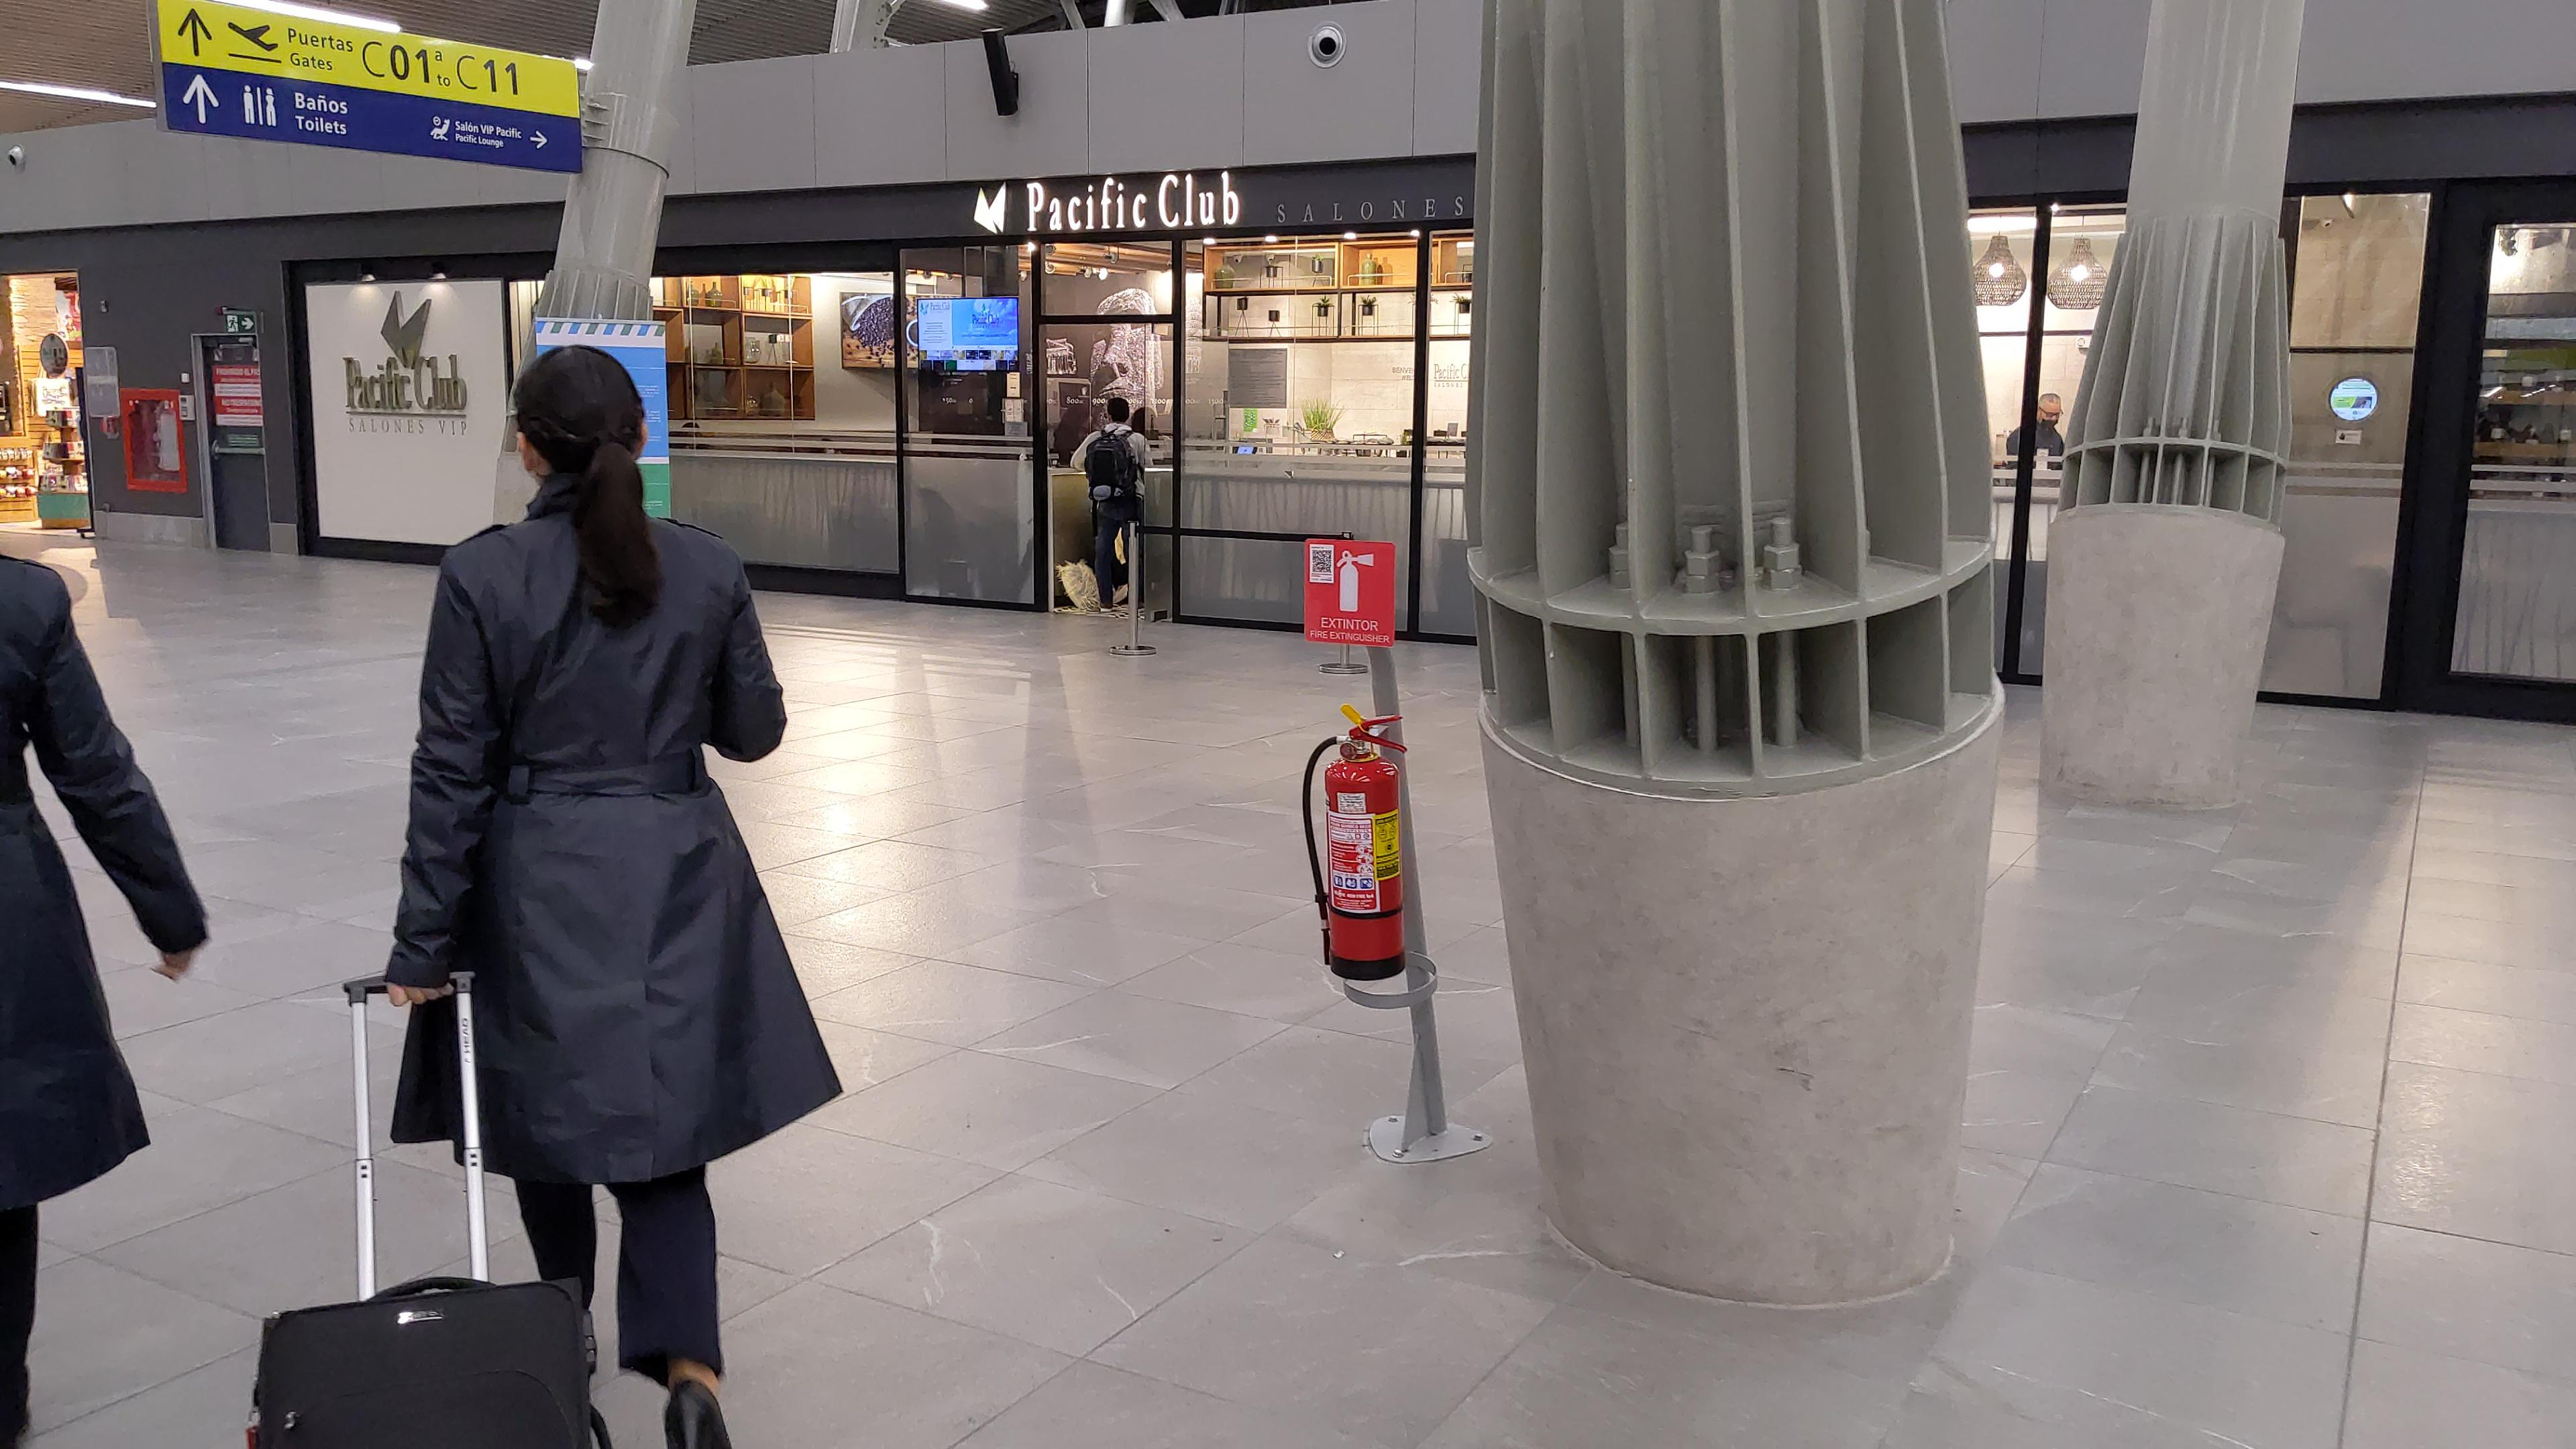airplane symbol: (225, 12, 281, 57)
bathrooms: (235, 80, 281, 129)
fire-extinguisher: (1293, 704, 1424, 993)
thin right arrow: (529, 131, 550, 150)
thin up arrow: (177, 7, 216, 58), (180, 69, 218, 122)
